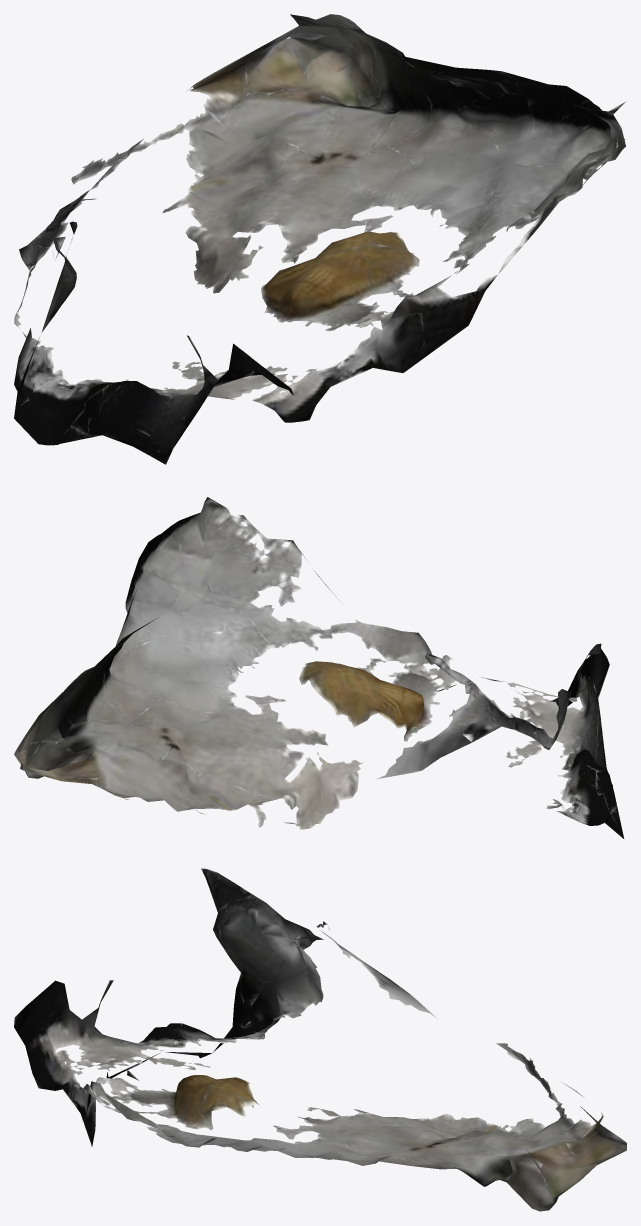
File: hall.glb
The picture shows the model from 3 angles, top to bottom: view 1: azimuth 30°, elevation 25°; view 2: azimuth 150°, elevation 25°; view 3: azimuth 270°, elevation 25°; orthographic projection. The views are drawn at different scales.
Size of the model in its own units: 1.16 by 0.4579 by 1.15.
Materials: 1 (1 with a texture image).
